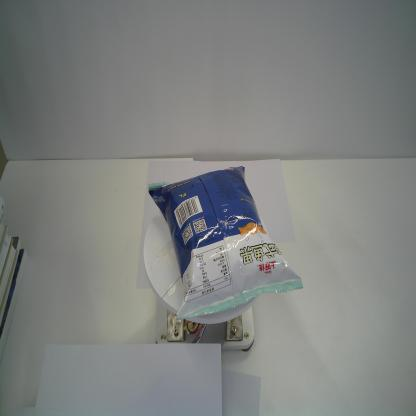Puffed Food: (148, 165, 304, 322)
